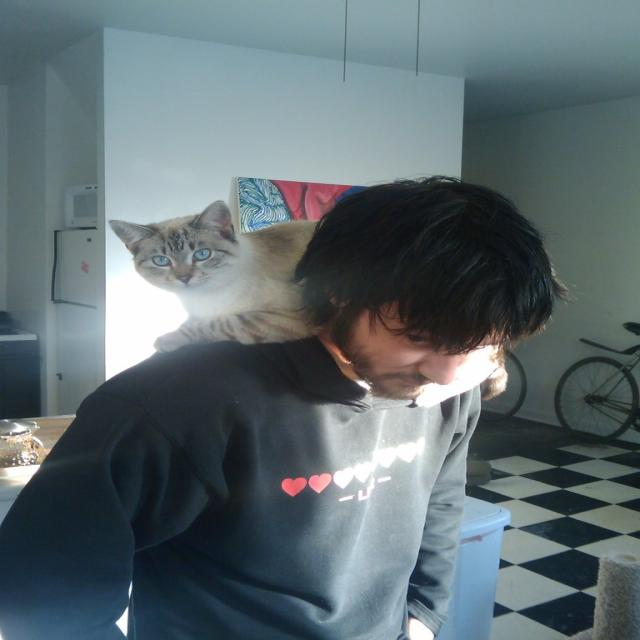Cat: (100, 194, 512, 376)
